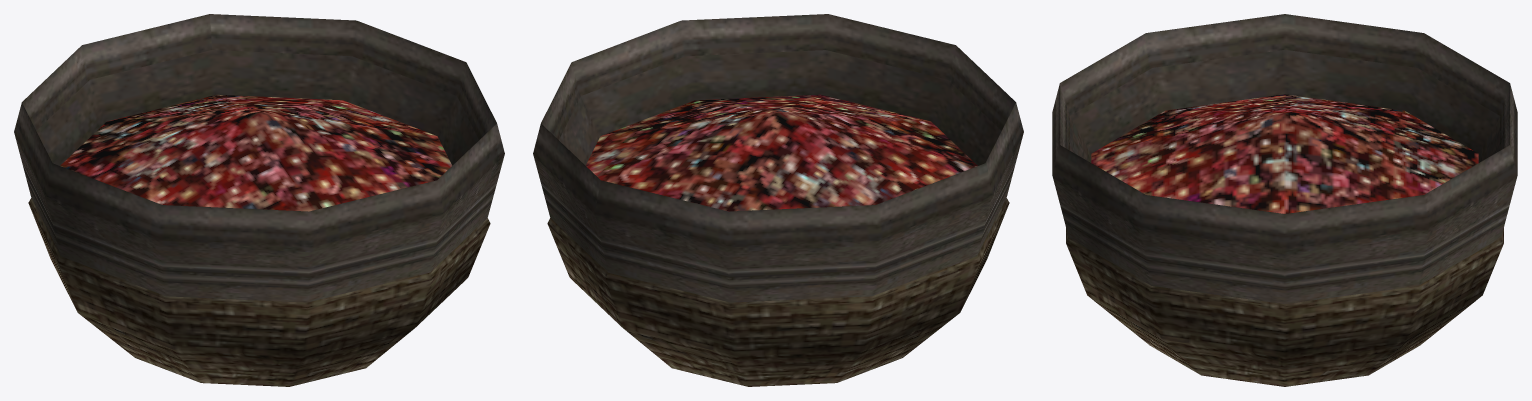
The model's file is edb_con_tato_bowl_full_s02_l0.fbx.
The picture shows the model from 3 angles, left to right: view 1: azimuth 30°, elevation 25°; view 2: azimuth 150°, elevation 25°; view 3: azimuth 270°, elevation 25°; orthographic projection.
Parts seen in each view (by area): view 1: mesh_node; view 2: mesh_node; view 3: mesh_node.
Part boxes in pixels (box(x1,y1,x2,y2)): mesh_node: box(14, 14, 504, 386); mesh_node: box(533, 14, 1023, 386); mesh_node: box(1052, 14, 1517, 386).
Size of the model in its own units: 0.6392 by 0.3073 by 0.6079.
